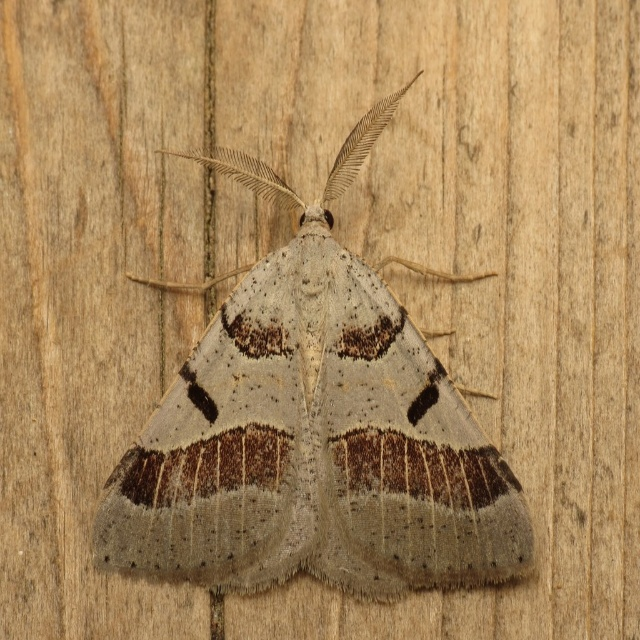Moths and butterflies: (90, 69, 542, 603)
